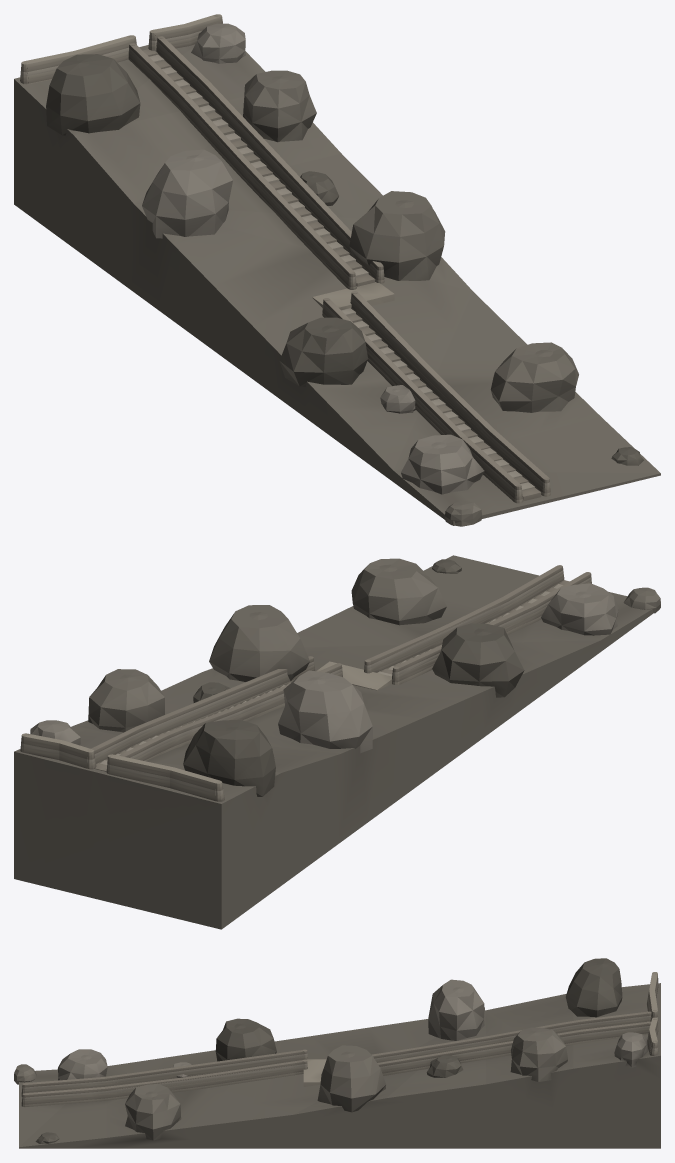
File: hill-ascent.glb
The picture shows the model from 3 angles, top to bottom: view 1: azimuth 30°, elevation 25°; view 2: azimuth 150°, elevation 25°; view 3: azimuth 270°, elevation 25°; orthographic projection. The views are drawn at different scales.
Parts seen in each view (by area): view 1: p0_slope, p2_walls, p1_steps; view 2: p0_slope, p2_walls, p1_steps; view 3: p0_slope, p2_walls, p1_steps.
Boxes of the visible parts, x1,y1,x2,y2 form: p0_slope: (14,23,660,526); p2_walls: (20,14,550,503); p1_steps: (143,49,541,501); p0_slope: (14,555,660,929); p2_walls: (20,565,591,801); p1_steps: (94,580,569,771); p0_slope: (14,958,660,1148); p2_walls: (21,972,658,1106); p1_steps: (303,1059,326,1086).
Size of the model in its own units: 33.4 by 22.71 by 111.
